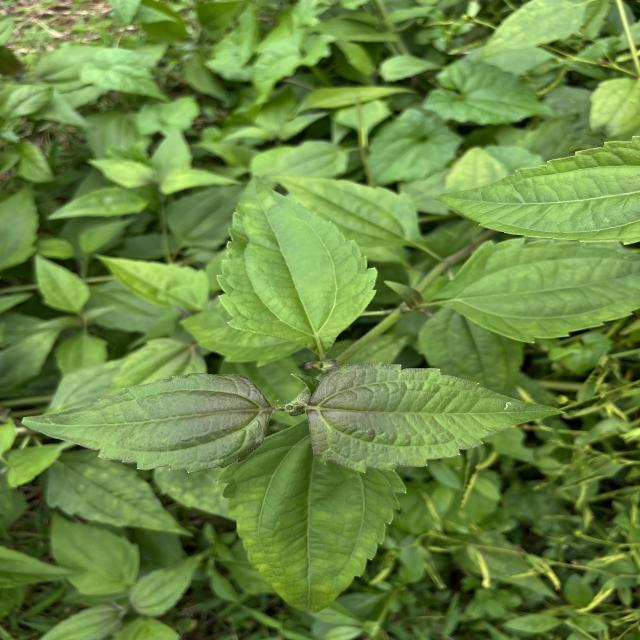Chromolaena odorata: (304, 358, 569, 478), (17, 368, 276, 478)
